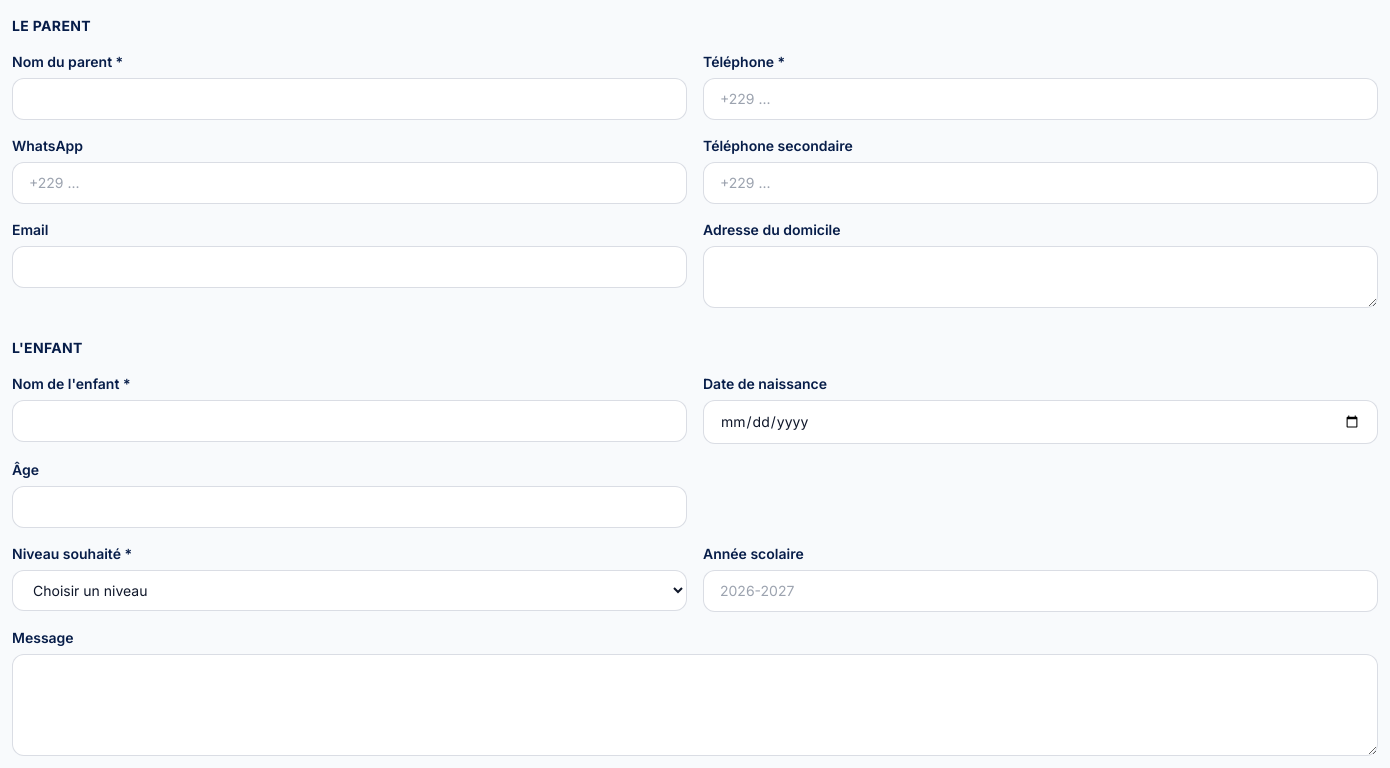
Test case: Site vitrine - formulaire de préinscription › envoie une demande valide
Type "Awa T" into the field labelled "Nom du parent *" at (350, 99), box [12,78,687,120]
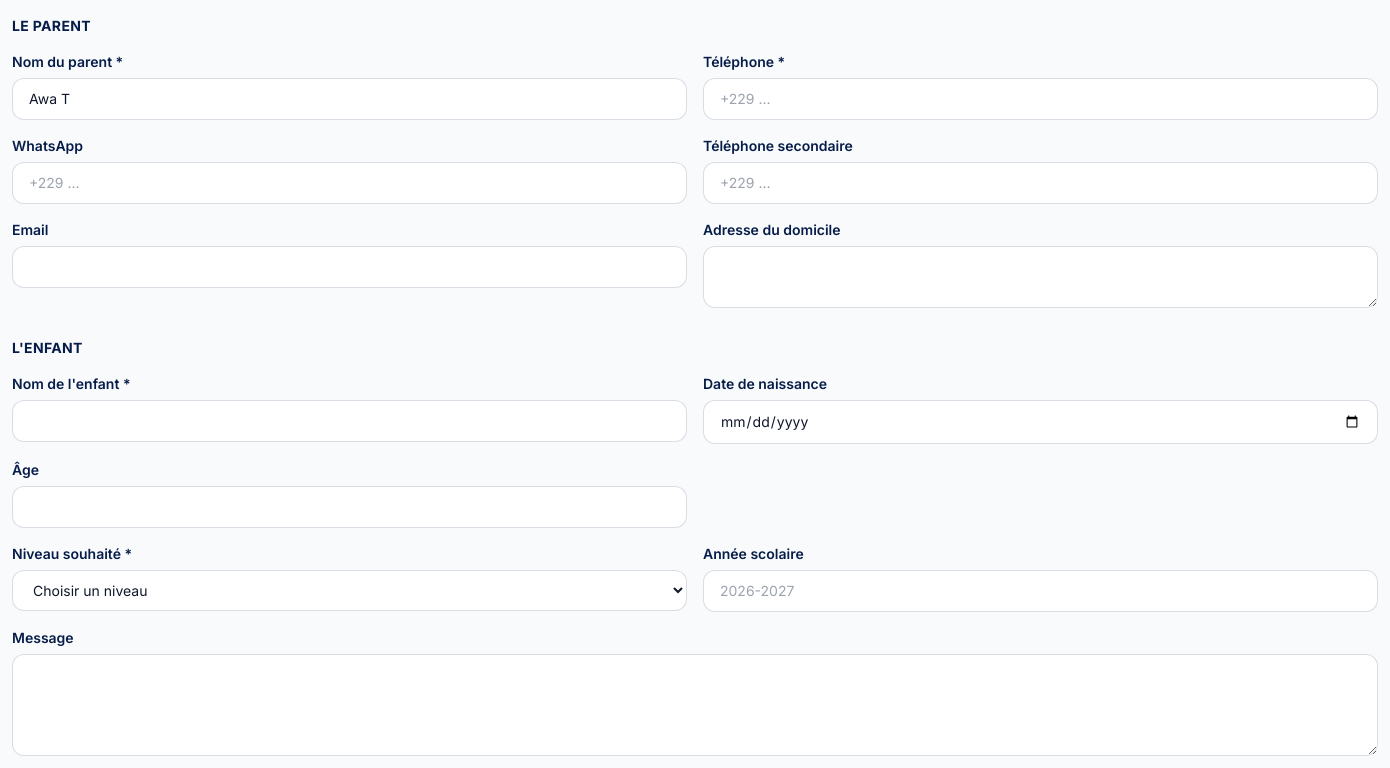
Type "+229 01 02 03 04" into the field labelled "Téléphone *" at (1040, 99), box [703,78,1378,120]
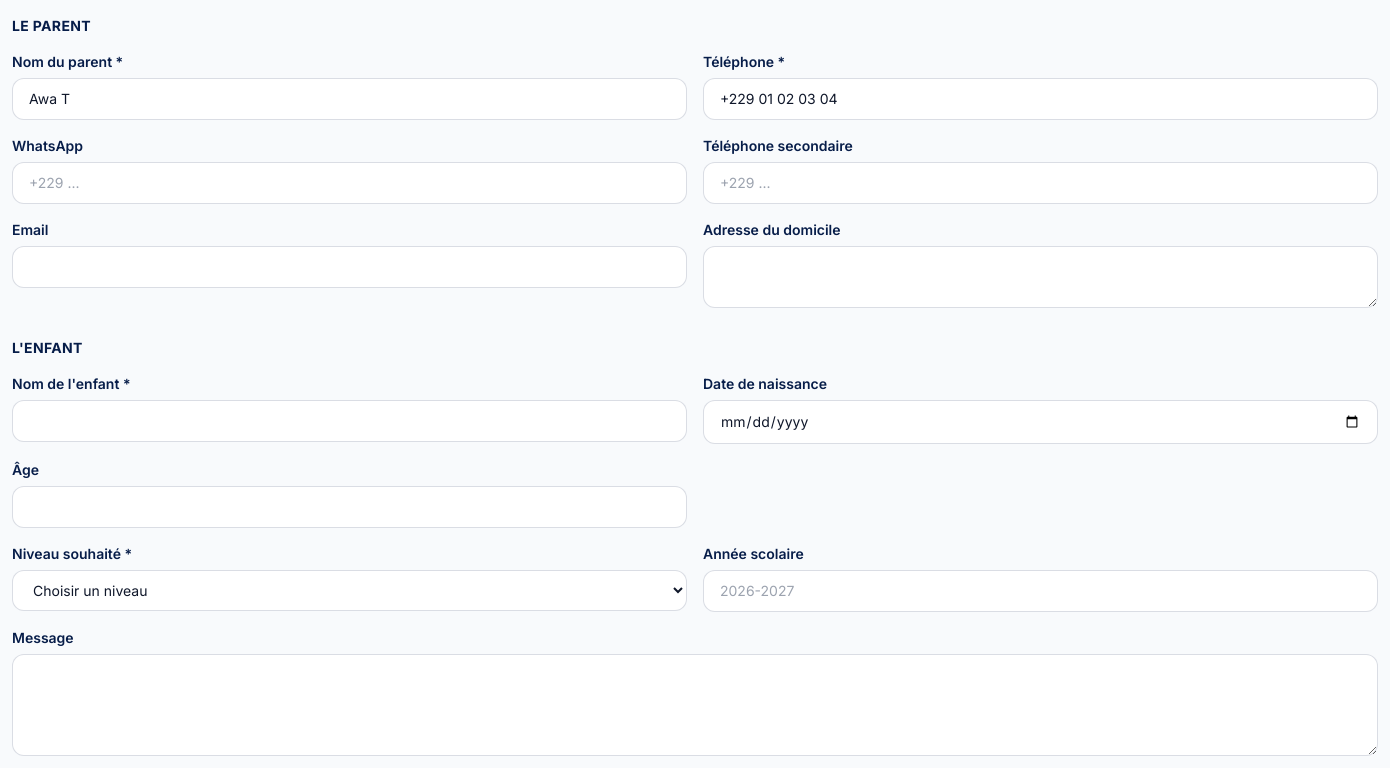
Type "Bintou" into the field labelled "Nom de l'enfant *" at (350, 421), box [12,400,687,442]
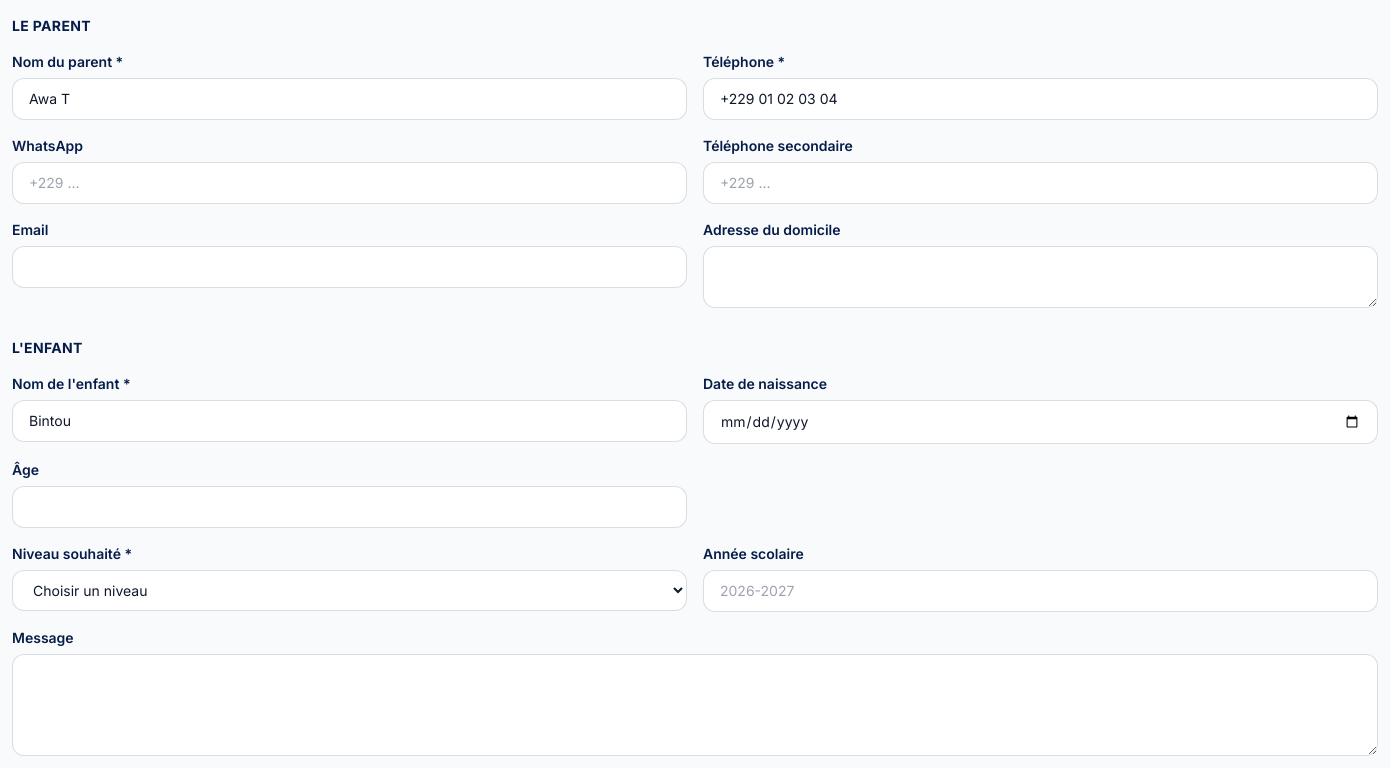
Select "CP" in the dropdown labelled "Niveau souhaité *" at (350, 590), box [12,570,687,611]
(page scrolled)
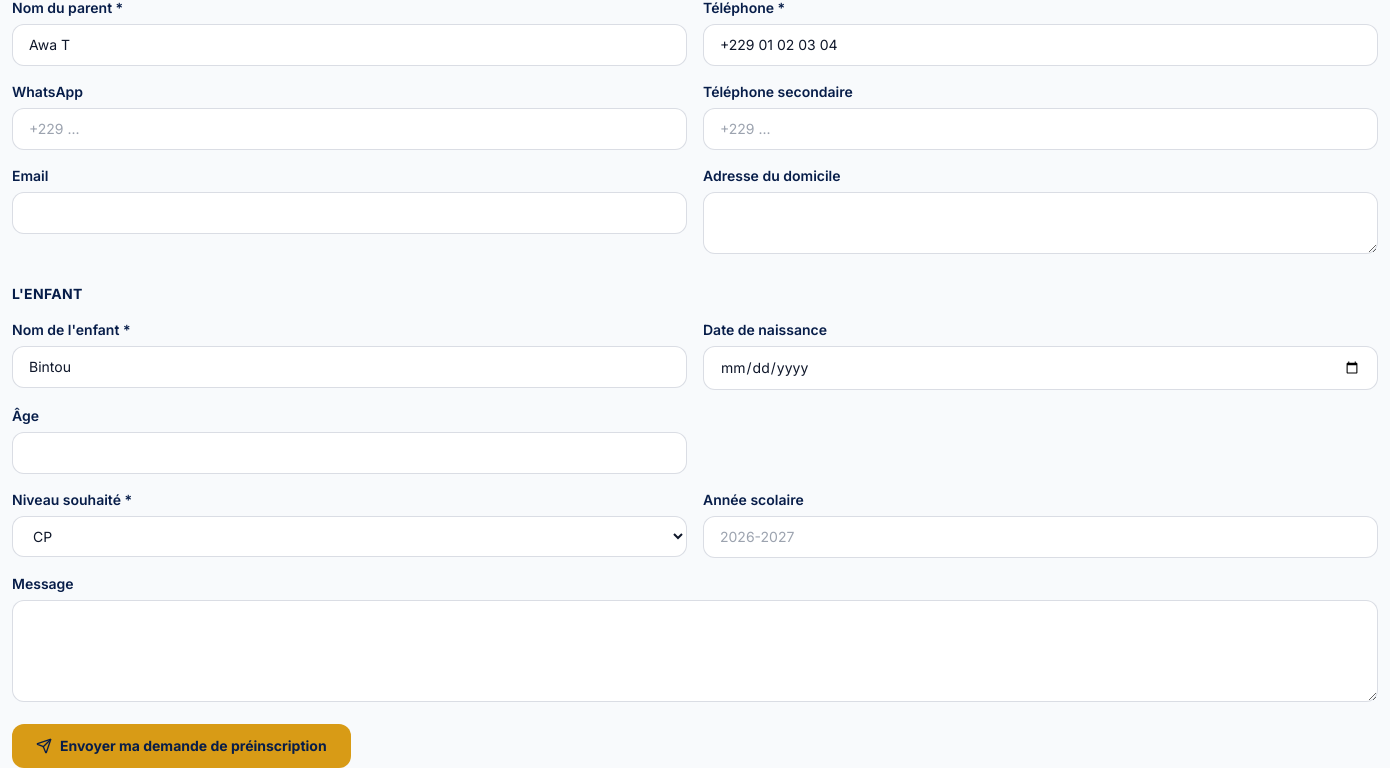
Click the button "Envoyer ma demande de préinscription" at (181, 746), box [12,724,351,767]
(page scrolled)
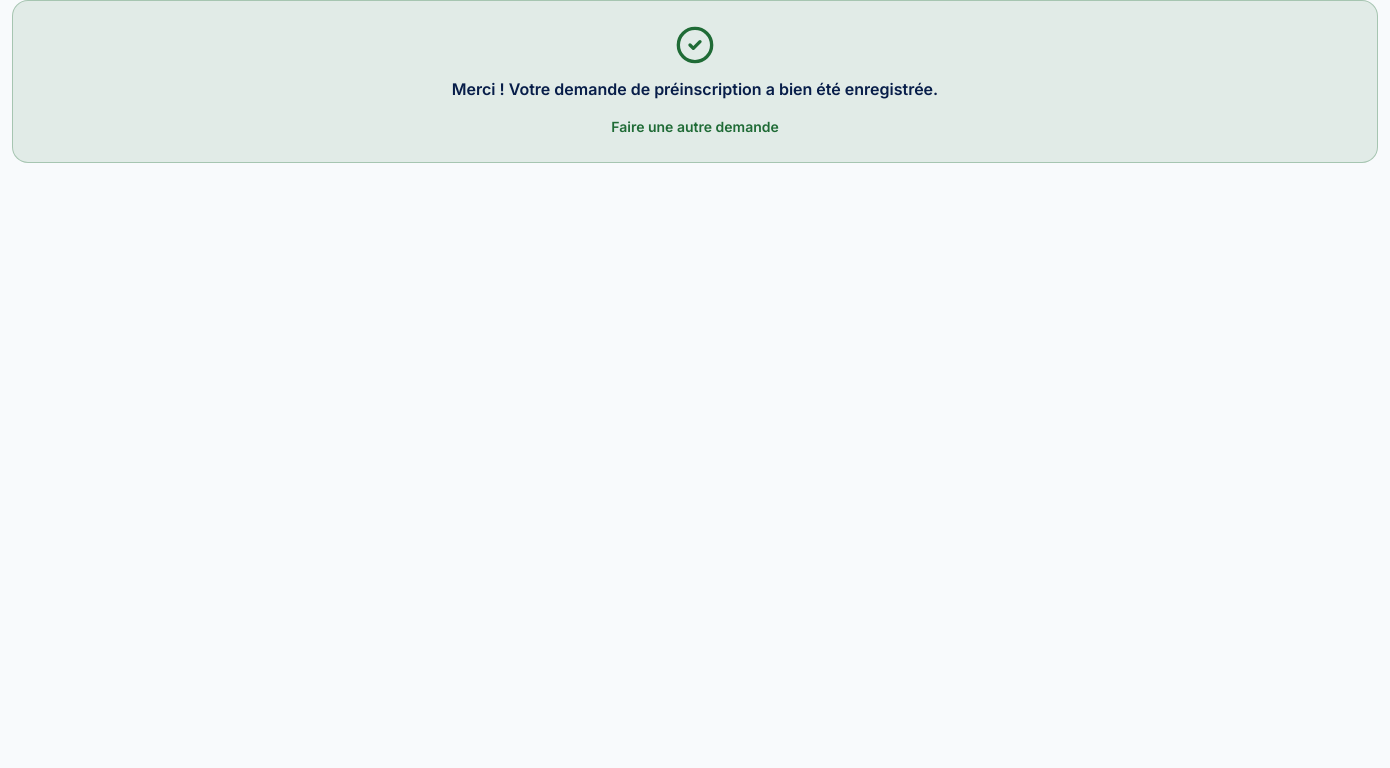
Now the text "bien été enregistrée" is shown, box [452,79,938,99]
